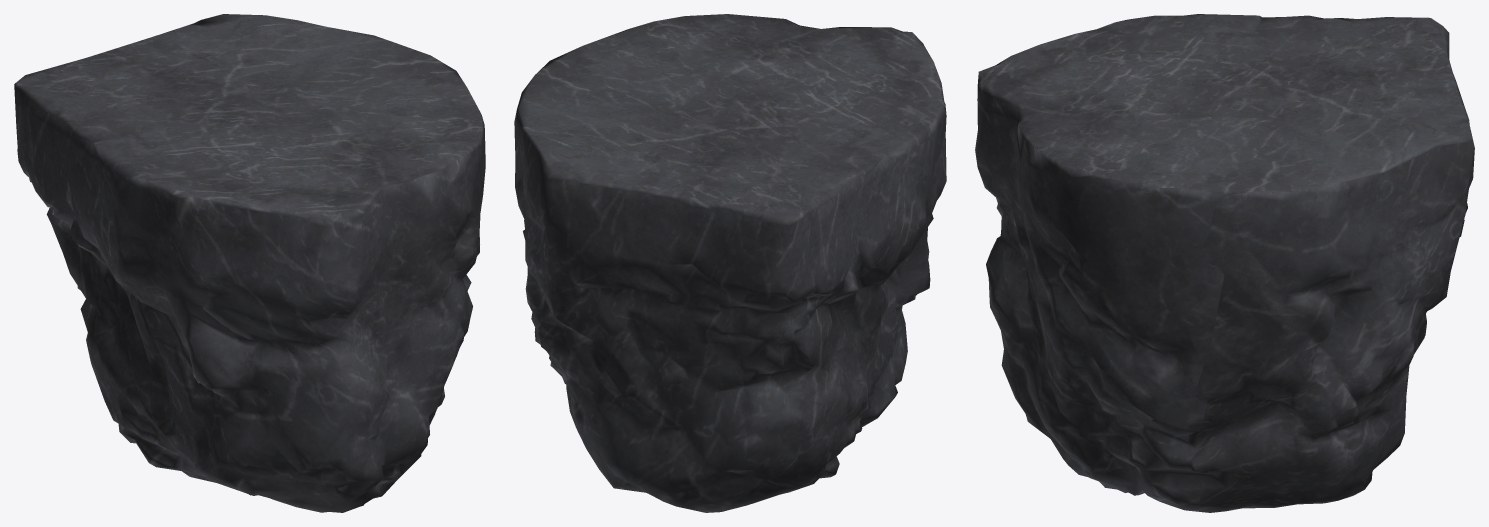
File: Cliff_Ledge_03.fbx
3 views of the same model, side by side, from view 1: azimuth 30°, elevation 25°; view 2: azimuth 150°, elevation 25°; view 3: azimuth 270°, elevation 25° (orthographic). The views are drawn at different scales.
Parts seen in each view (by area): view 1: SM_Cliff_Ledge_03.mo; view 2: SM_Cliff_Ledge_03.mo; view 3: SM_Cliff_Ledge_03.mo.
Boxes of the visible parts, bbox=[...] form: SM_Cliff_Ledge_03.mo: bbox=[14, 14, 485, 512]; SM_Cliff_Ledge_03.mo: bbox=[514, 14, 946, 512]; SM_Cliff_Ledge_03.mo: bbox=[975, 14, 1474, 512].
Size of the model in its own units: 510 by 494 by 591.
Materials: 1 (1 with a texture image).
